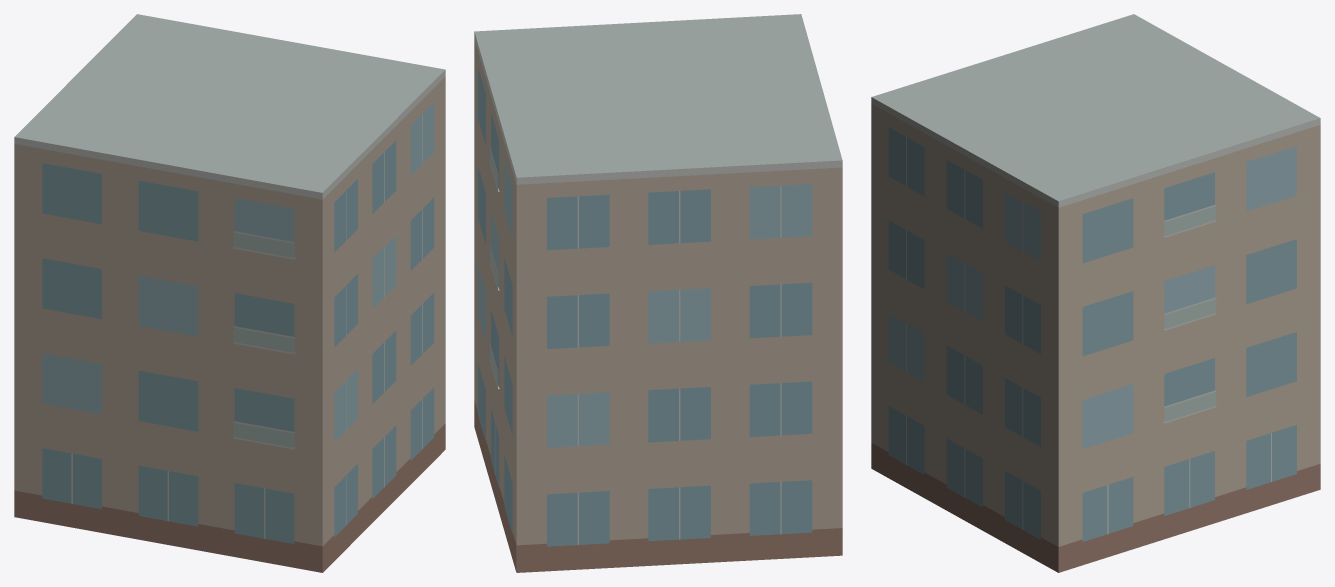
File: survey-upis-32526469.glb
3 renders of one model, left to right at view 1: azimuth 30°, elevation 25°; view 2: azimuth 150°, elevation 25°; view 3: azimuth 270°, elevation 25°, orthographic. The views are drawn at different scales.
Parts seen in each view (by area): view 1: survey-upis-32526469.tmp; view 2: survey-upis-32526469.tmp; view 3: survey-upis-32526469.tmp.
Part boxes in pixels (x1=…): survey-upis-32526469.tmp: x1=14, y1=14, x2=445, y2=572; survey-upis-32526469.tmp: x1=474, y1=14, x2=842, y2=572; survey-upis-32526469.tmp: x1=871, y1=14, x2=1320, y2=572.
Size of the model in its own units: 14.92 by 13.79 by 15.12.
